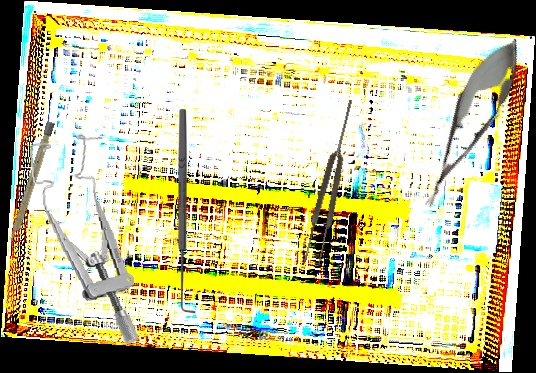Hook Surgical: (176, 108, 196, 314)
Micro Scissor: (407, 27, 535, 218)
Scalpel Handle: (7, 120, 55, 248)
Speculum: (28, 129, 141, 353)
Tissue Forceps: (300, 97, 363, 267)
